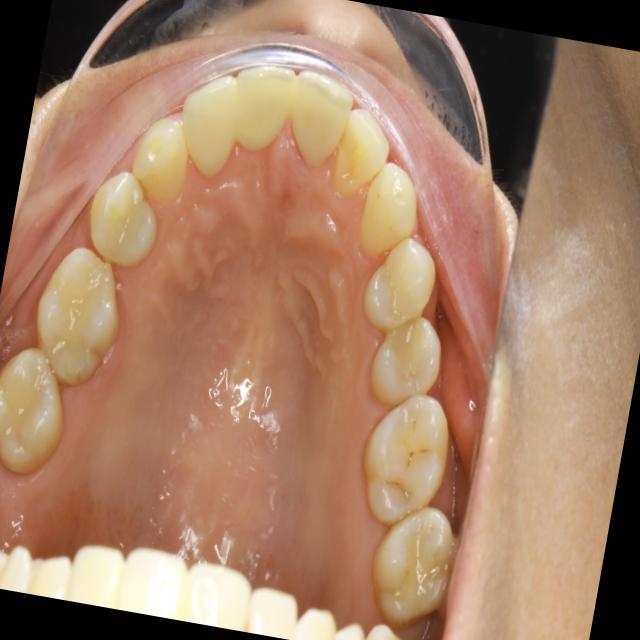tooth: (337, 372, 473, 542), (22, 224, 148, 403), (352, 494, 465, 639), (350, 300, 461, 425), (71, 160, 177, 287), (0, 330, 82, 490), (274, 55, 368, 191), (218, 37, 309, 172), (356, 208, 447, 343), (319, 79, 406, 219), (348, 139, 432, 281), (169, 64, 251, 189), (120, 112, 202, 223)
